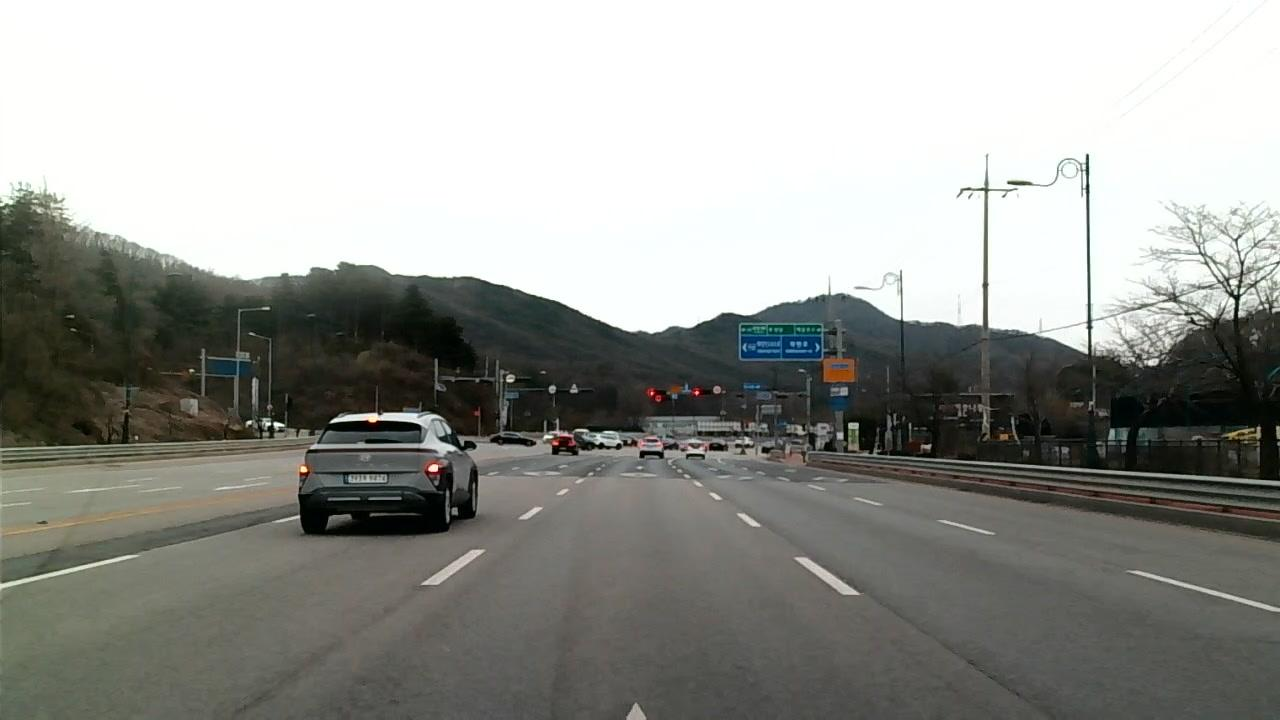banner: (868, 601, 1037, 710), (145, 496, 294, 548), (5, 530, 138, 583)
